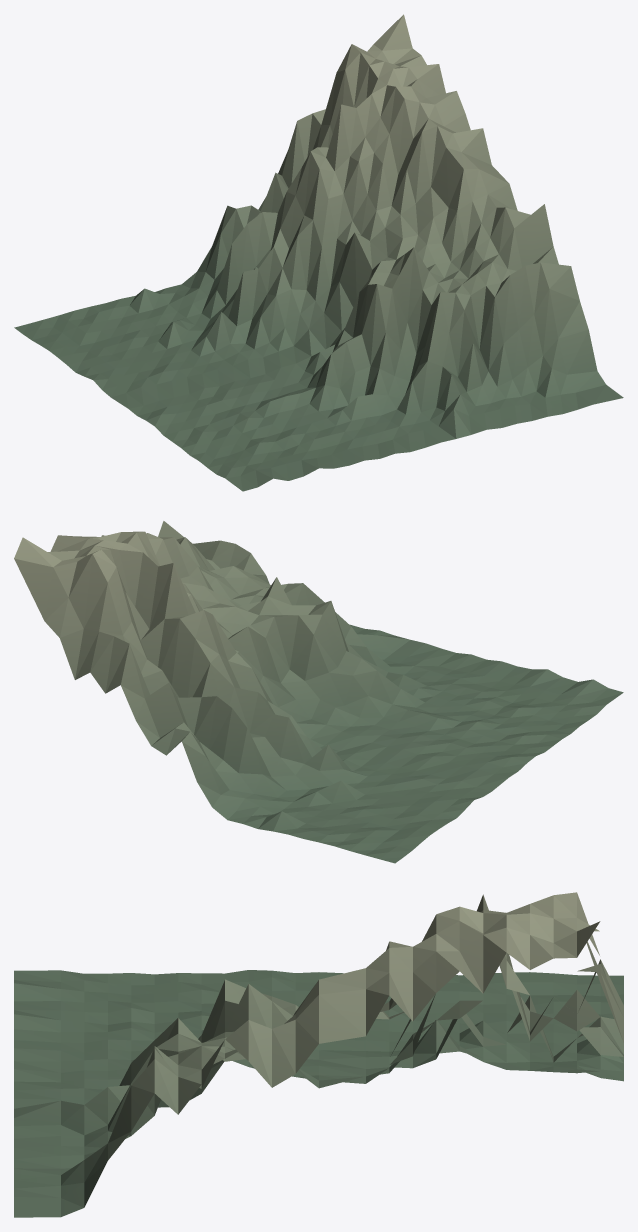
File: tile_1_3.glb
3 renders of one model, top to bottom at view 1: azimuth 30°, elevation 25°; view 2: azimuth 150°, elevation 25°; view 3: azimuth 270°, elevation 25°, orthographic. The views are drawn at different scales.
Visible parts, largest first — view 1: geometry_0; view 2: geometry_0; view 3: geometry_0.
Part boxes in pixels (x1,y1,x2,y2): geometry_0: [14, 14, 623, 491]; geometry_0: [14, 521, 623, 863]; geometry_0: [14, 892, 623, 1217].
Size of the model in its own units: 123 by 69.89 by 127.
